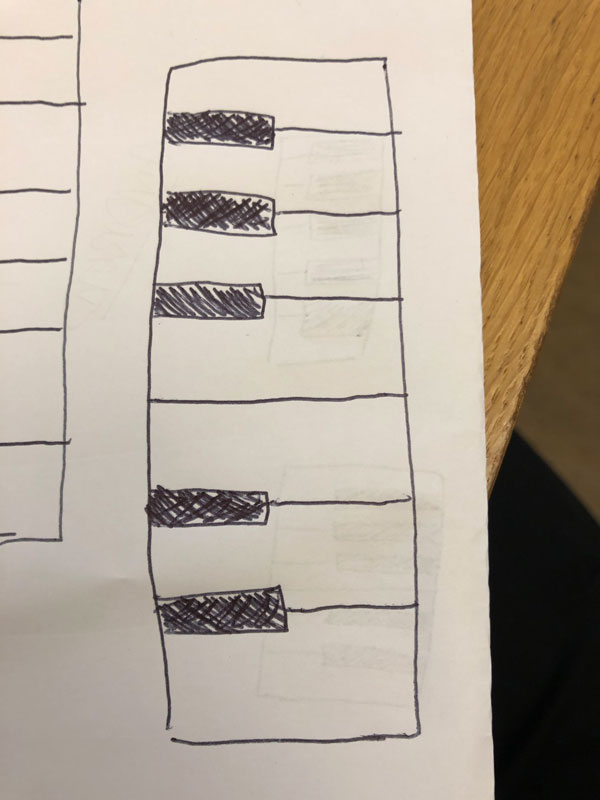piano: (143, 55, 429, 745)
